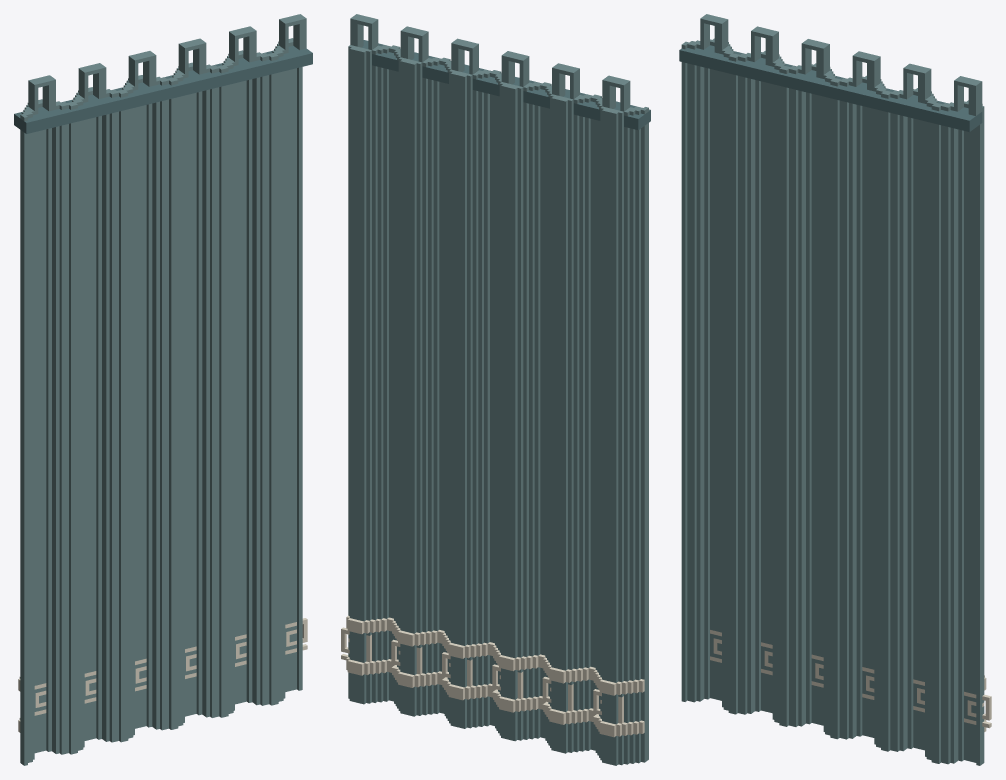
3 renders of one model, left to right at view 1: azimuth 30°, elevation 25°; view 2: azimuth 150°, elevation 25°; view 3: azimuth 330°, elevation 25°, orthographic.
Visible parts, largest first — view 1: 窗帘帘片; view 2: 窗帘帘片; view 3: 窗帘帘片.
Boxes of the visible parts, box(x1,y1,x2,y2) form: 窗帘帘片: box(14, 14, 312, 765); 窗帘帘片: box(341, 14, 650, 765); 窗帘帘片: box(679, 14, 991, 765).
Bounding box in the file's own units: 0.82 × 1.8 × 0.09.
3 materials, 3 textured.
